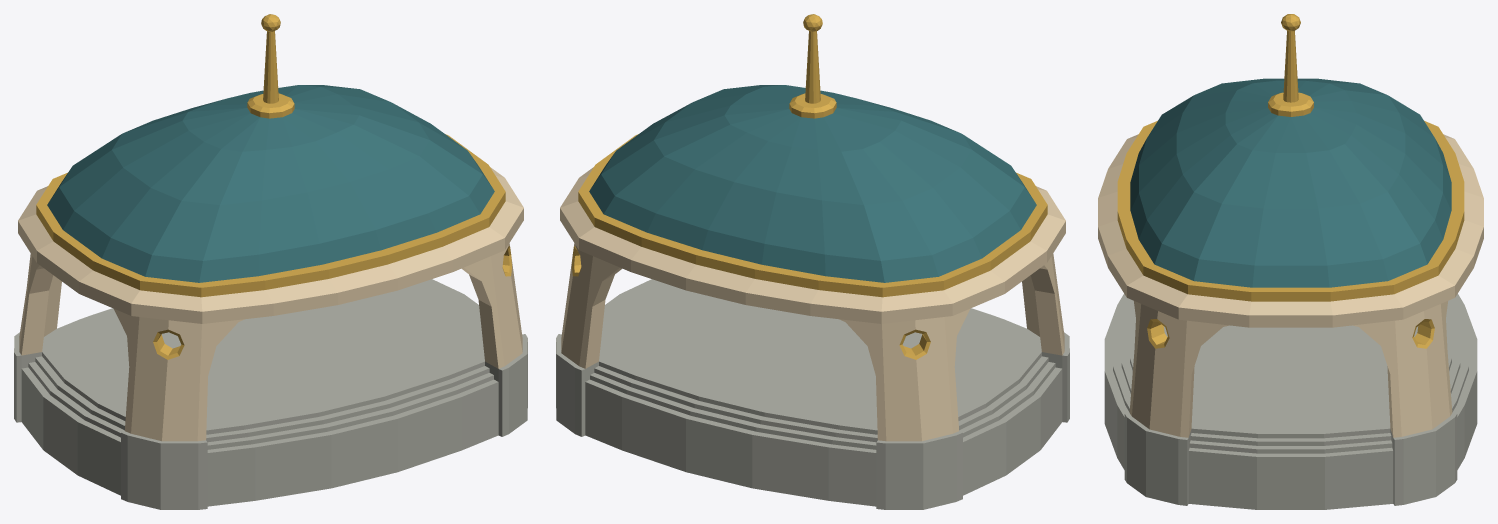
3 views of the same model, side by side, from view 1: azimuth 30°, elevation 25°; view 2: azimuth 150°, elevation 25°; view 3: azimuth 270°, elevation 25° (orthographic).
Visible parts, largest first — view 1: commons; view 2: commons; view 3: commons.
Boxes of the visible parts, x1=… form: commons: x1=14, y1=14, x2=527, y2=509; commons: x1=556, y1=14, x2=1069, y2=509; commons: x1=1098, y1=14, x2=1483, y2=509.
Bounding box in the file's own units: 12.38 × 11.01 × 9.78.
Materials: 1 (1 with a texture image).
